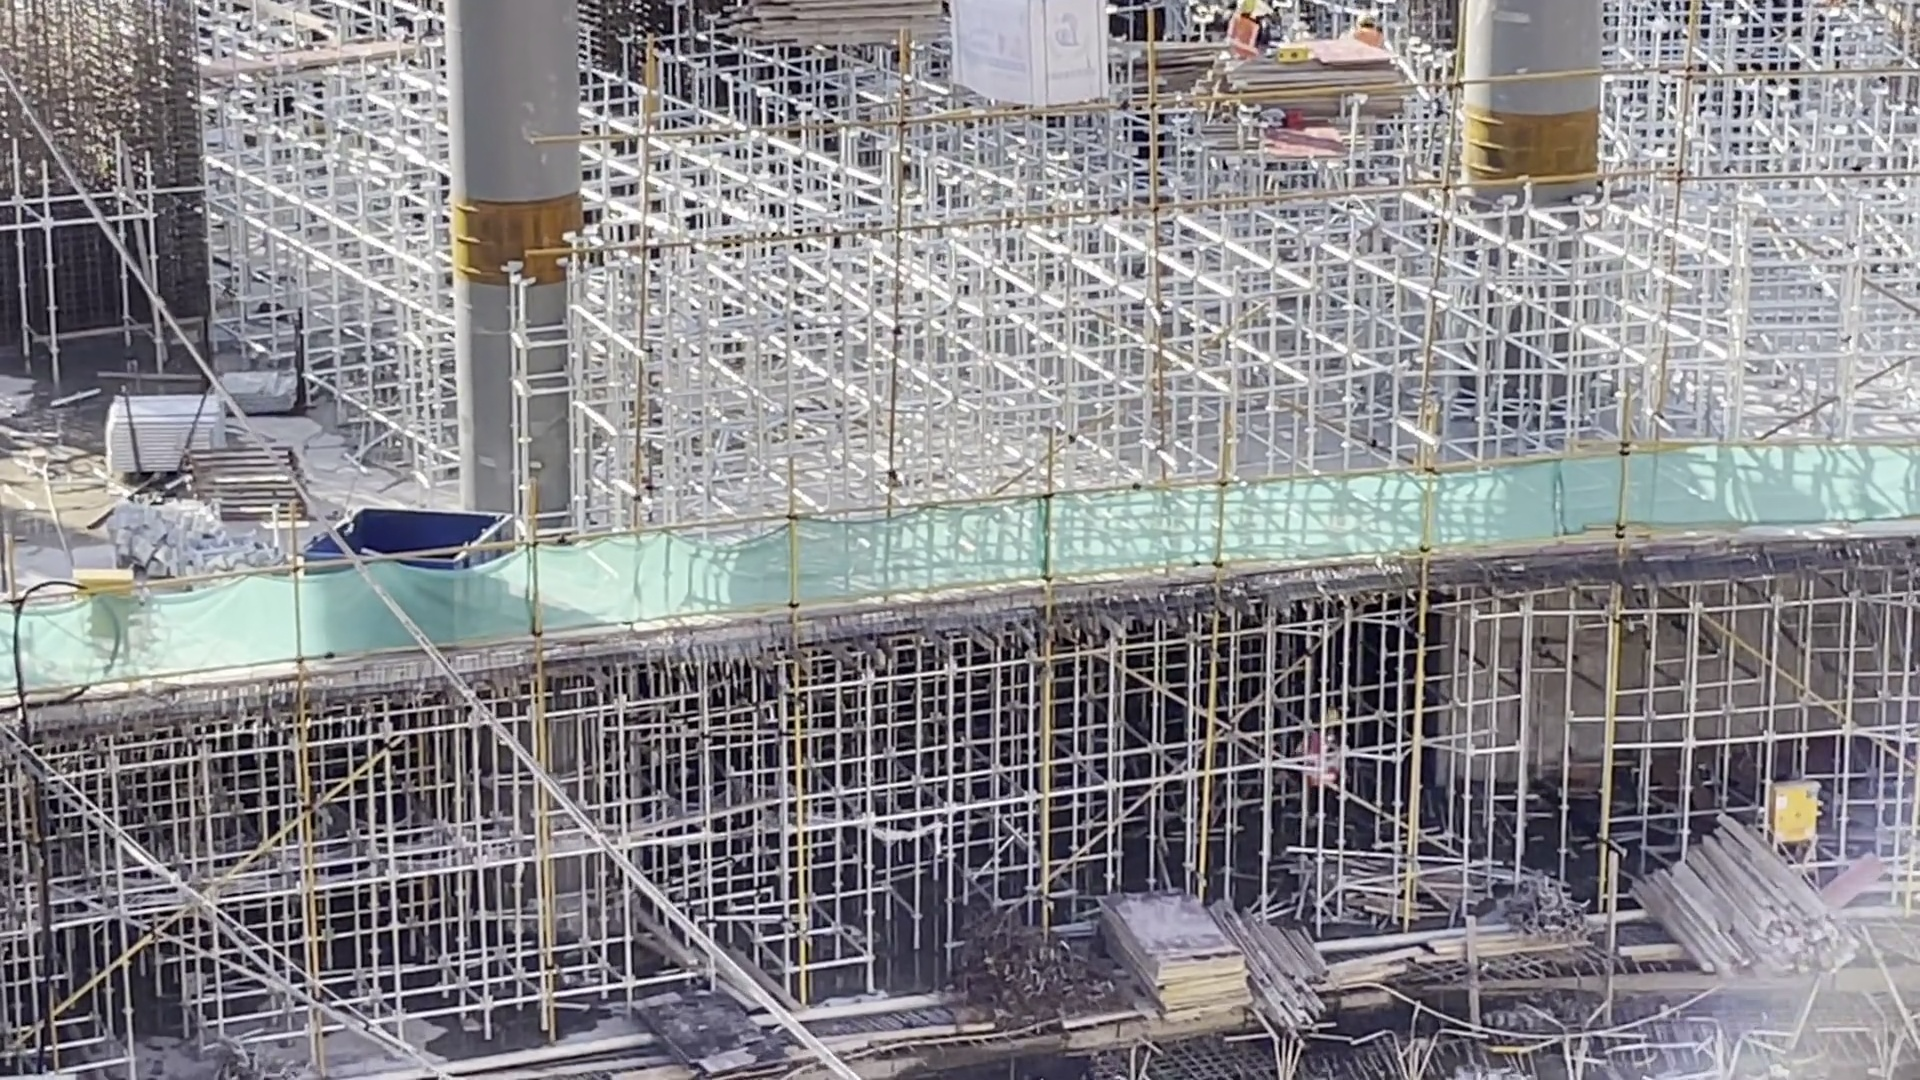board: (1092, 882, 1259, 1028), (1221, 37, 1408, 126)
ebox: (1769, 778, 1821, 853), (70, 567, 136, 585)
helmet: (1235, 1, 1255, 16)
hopper: (296, 501, 518, 549)
person: (1215, 1, 1272, 61), (1335, 8, 1385, 50)
scaffold: (103, 394, 229, 443)
vest: (1224, 14, 1261, 54)
wood: (1628, 806, 1867, 983), (711, 1, 948, 60), (1260, 912, 1340, 1032)
